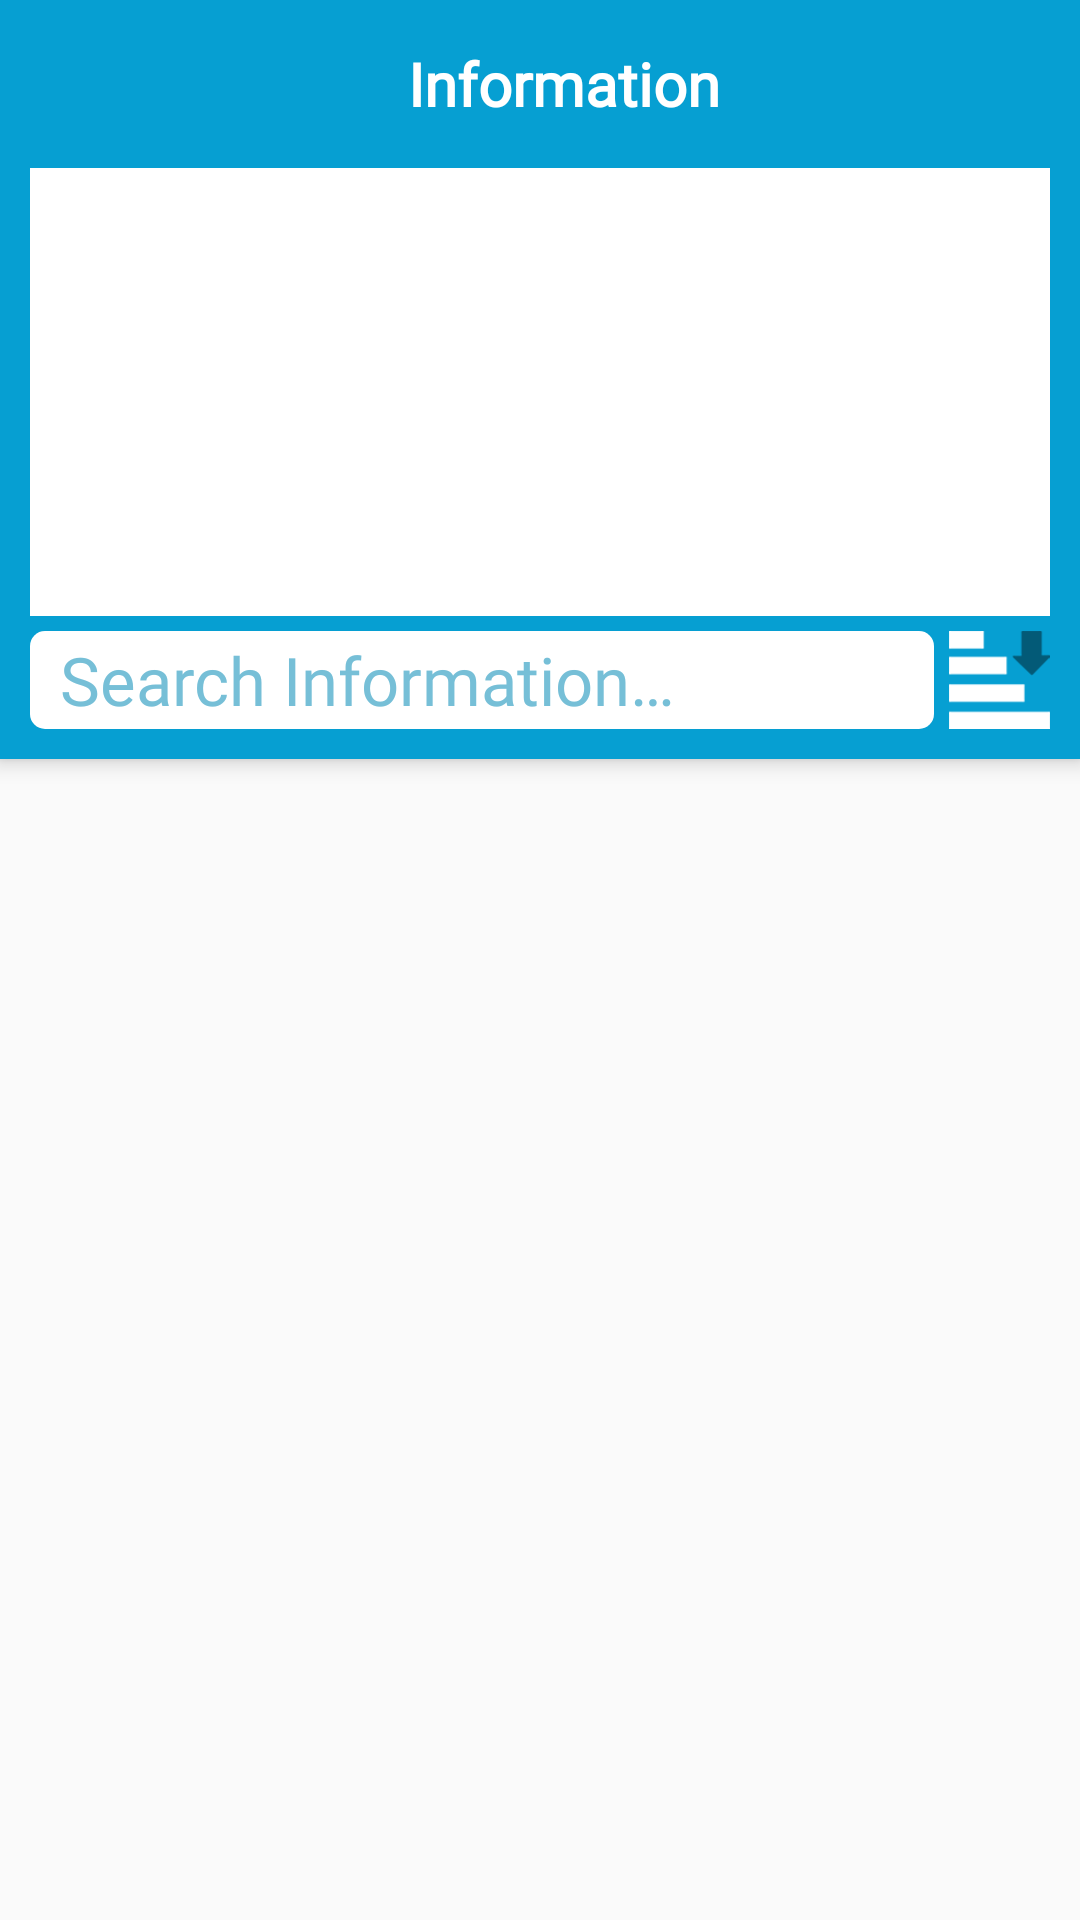

Icon click points for this 1080x1920 phone screenshot, format [x,y]:
sort: [999,680]
